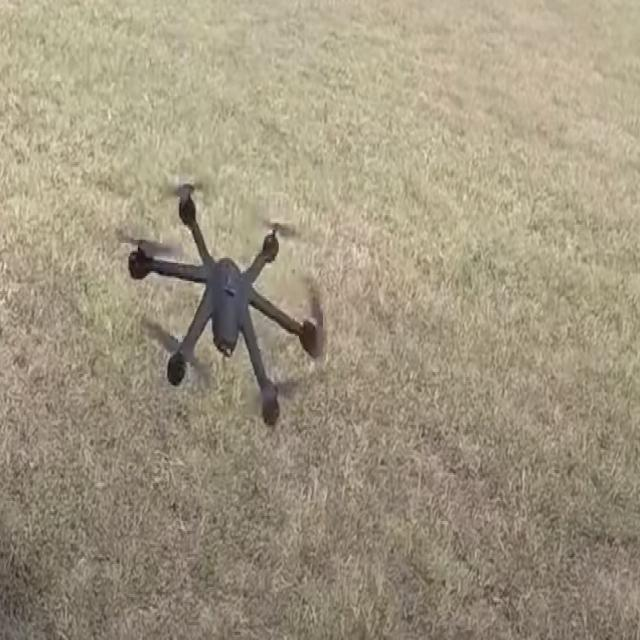drone: (120, 155, 344, 439)
